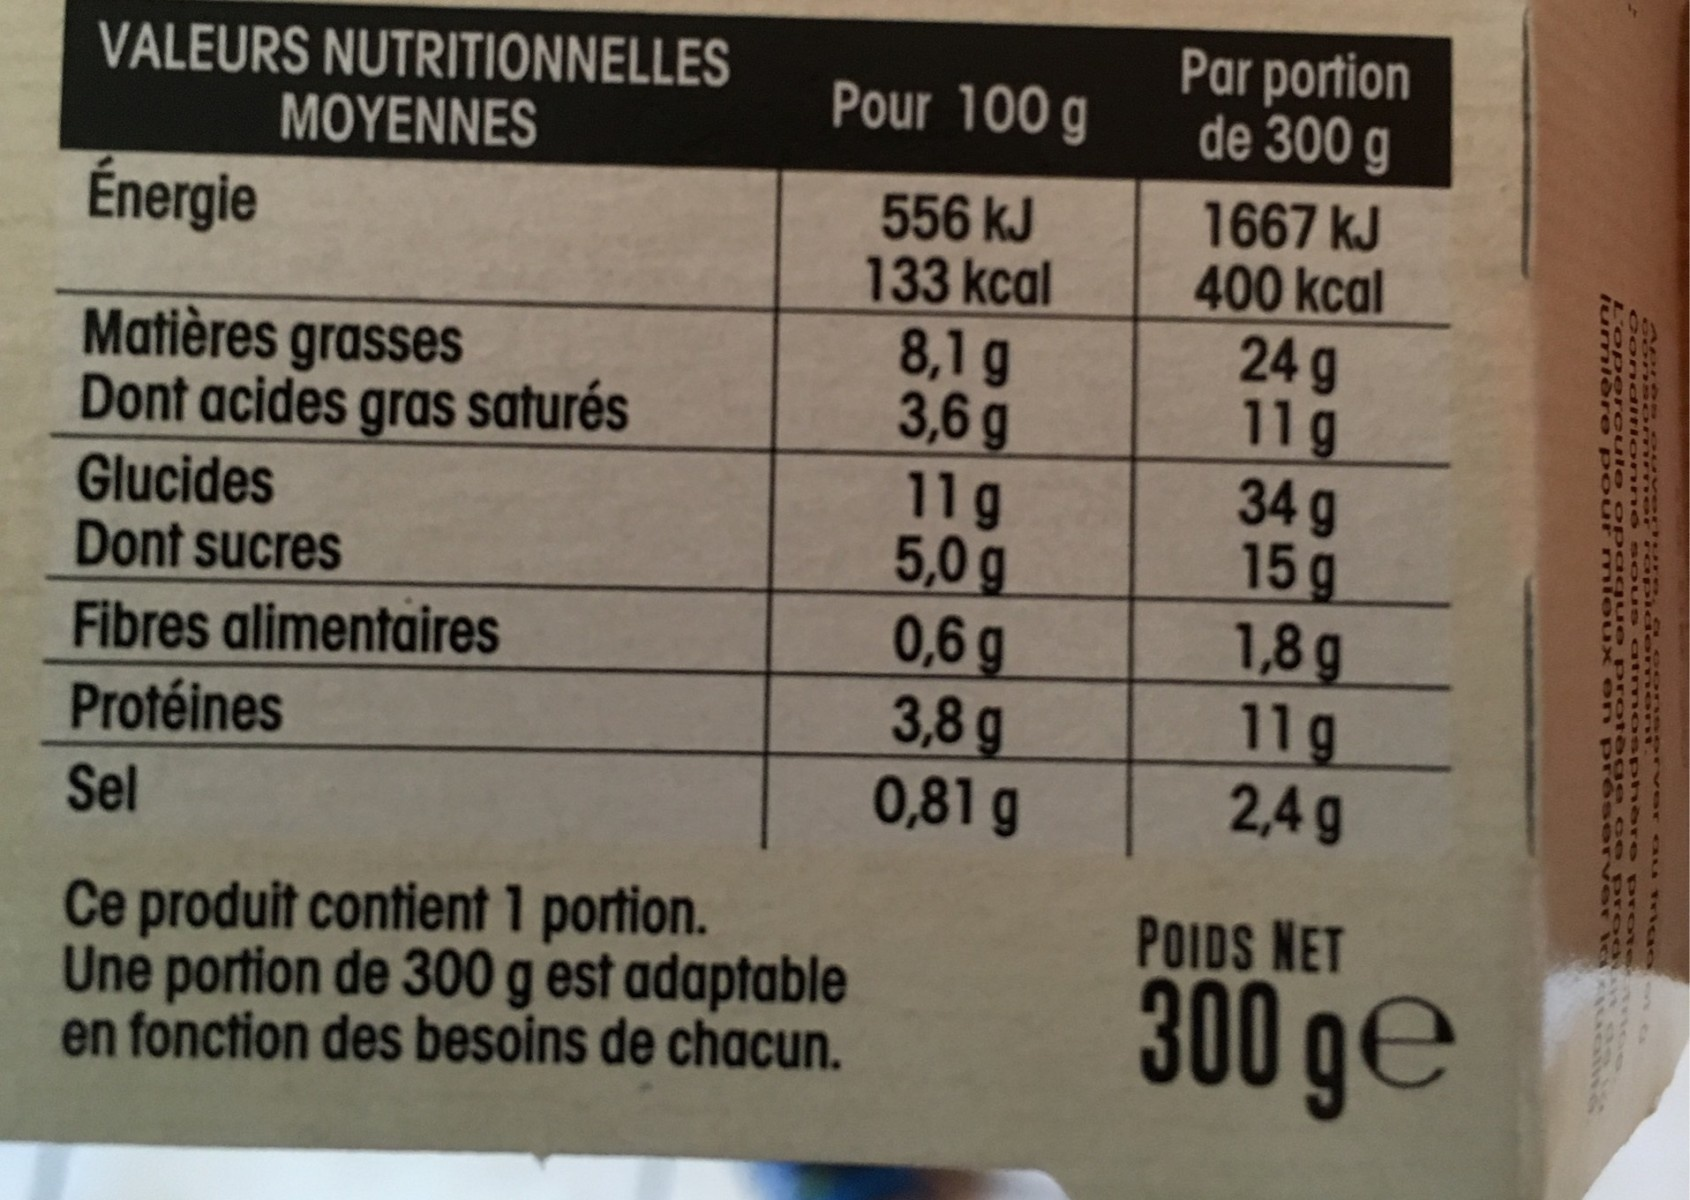column: (69, 17, 744, 817), (826, 64, 1093, 845), (1171, 39, 1407, 852)
table: (57, 3, 1452, 858)
